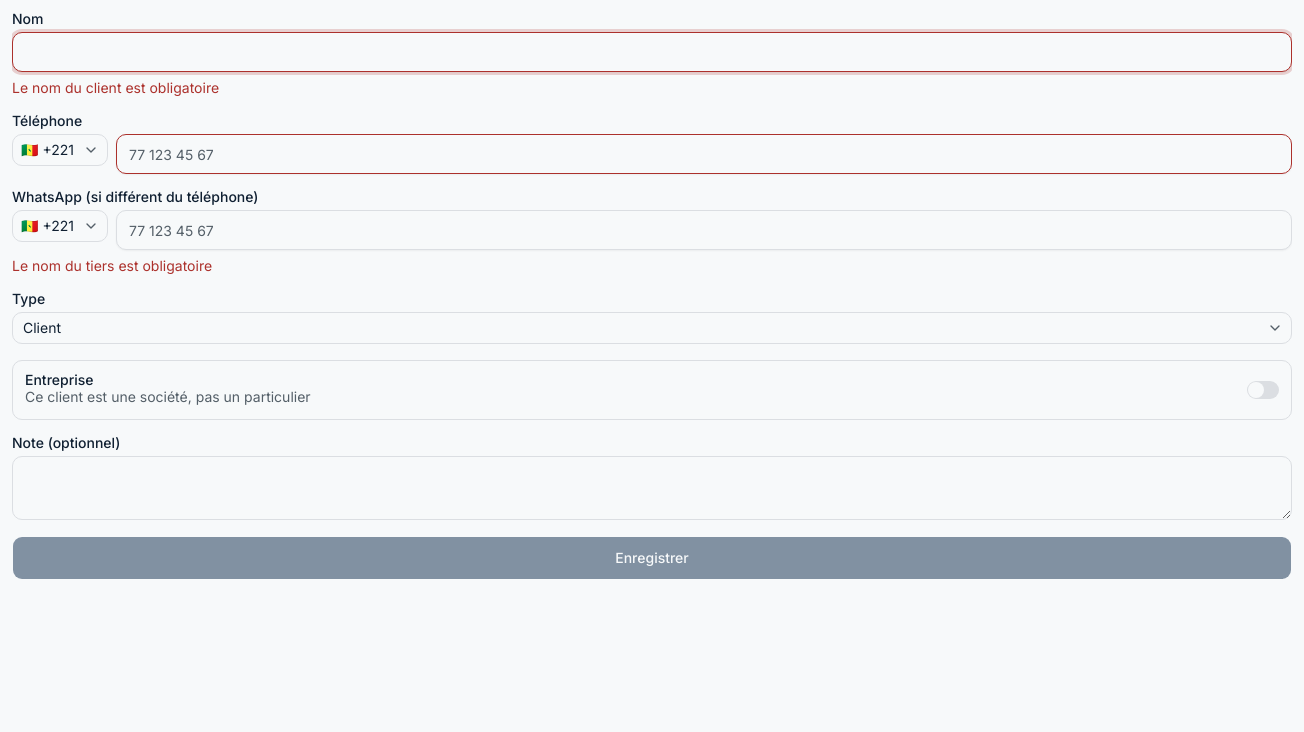
Test: PartyForm › réactive le bouton une fois le nom et un téléphone valides renseignés
In the field labelled "Nom": (652,52) x1=12 y1=32 x2=1292 y2=72, type "Fatou Diop"
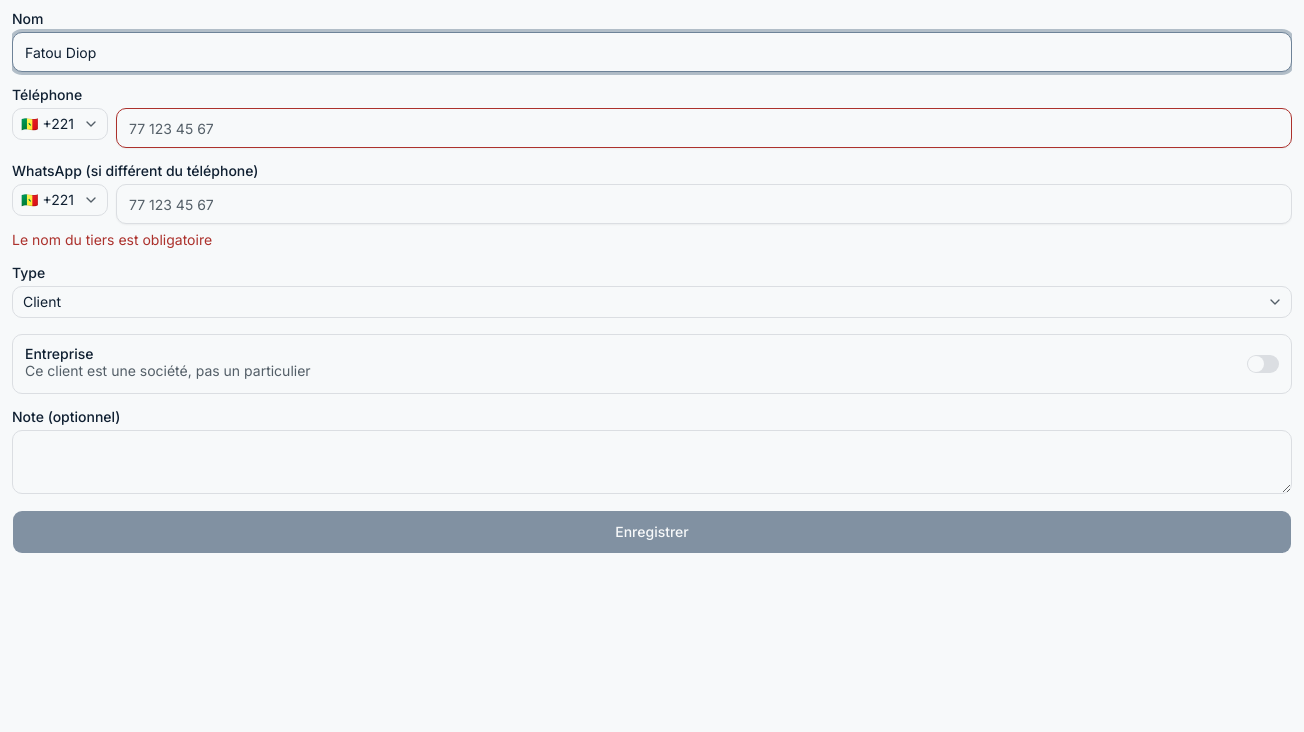
In the field labelled "Téléphone": (704,128) x1=116 y1=108 x2=1292 y2=148, type "771234567"
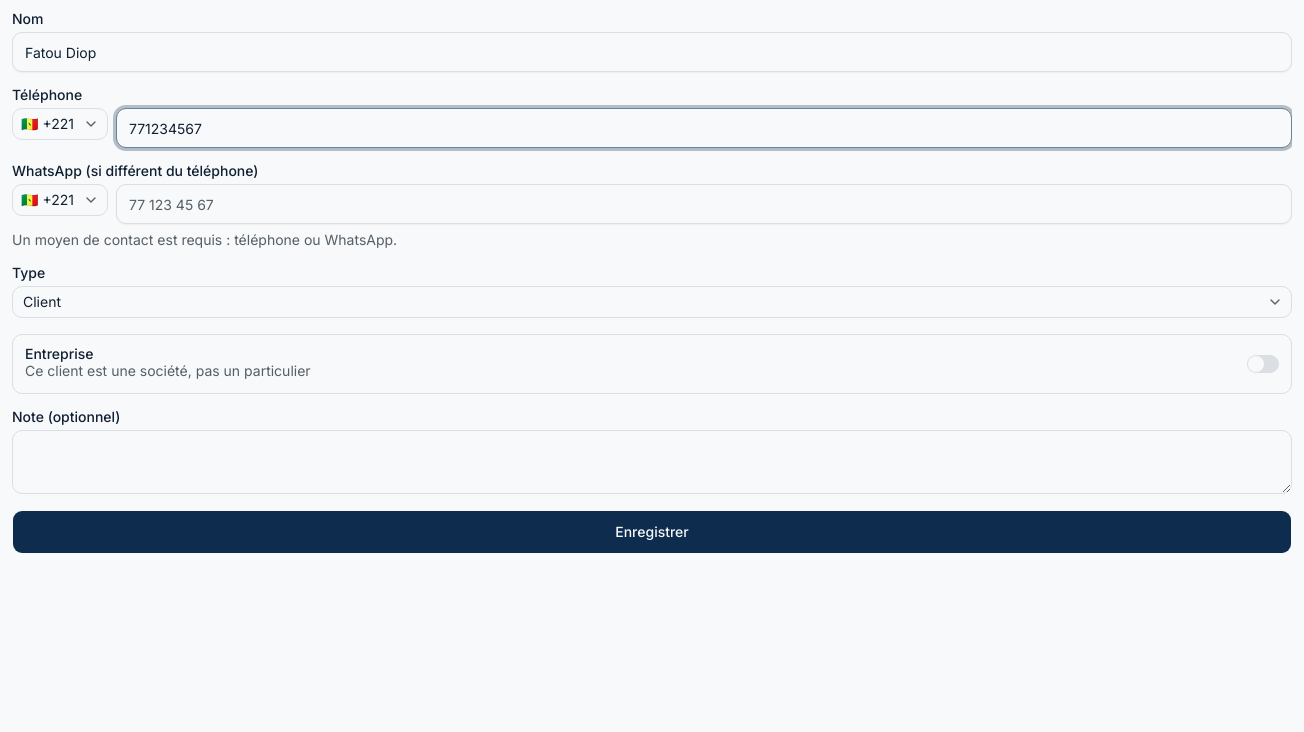
Expected: the button "Enregistrer" is enabled, x1=12 y1=510 x2=1292 y2=554
